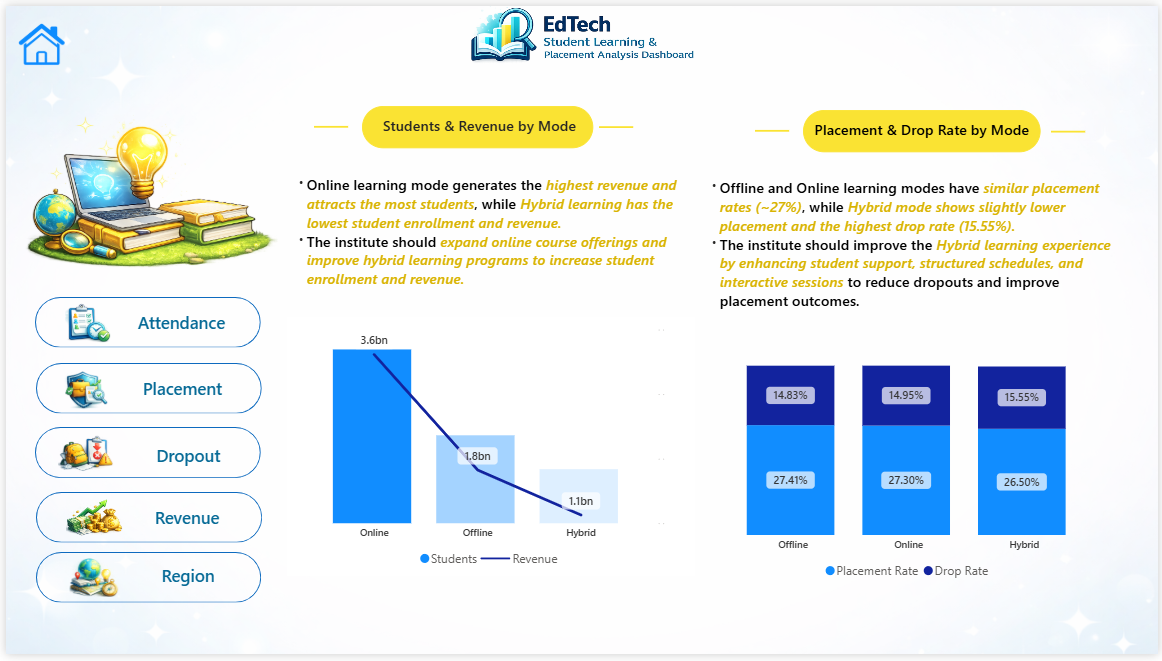

Layout of this report page (visuals, bound fields, positions):
{"tool":"powerbi","page":{"name":"Learning Mode Page","canvas":[1280,720],"ordinal":5},"visuals":[{"type":"image","box":[387.5,0,505.4,68.3],"z":0},{"type":"shape","box":[33,540,251.2,56.4],"z":0,"group":"g4"},{"type":"image","box":[13.8,17.5,52.5,50],"z":1000},{"type":"textbox","box":[129,549.7,144.5,39],"z":1000,"group":"g4"},{"type":"textbox","box":[395,111,257,47],"z":2000},{"type":"image","box":[66,546.2,62.7,43.2],"z":2000,"group":"g4"},{"type":"shape","box":[659,105,38,58],"z":3000},{"type":"shape","box":[342.7,105.2,37.9,57.4],"z":4000},{"type":"textbox","box":[885,116,264,47],"z":5000},{"type":"shape","box":[1161,111,38,57],"z":6000},{"type":"shape","box":[32.8,606.5,250.2,56.4],"z":6000,"group":"g2"},{"type":"shape","box":[832.7,110,37.9,57.4],"z":7000},{"type":"textbox","box":[129.2,614.1,144.5,39],"z":7000,"group":"g2"},{"type":"textbox","box":[311.2,182.5,453.8,151.2],"z":8000},{"type":"image","box":[66.3,612.9,62.7,43.2],"z":8000,"group":"g2"},{"type":"shape","box":[31.9,323.6,250.7,56.2],"z":9000},{"type":"textbox","box":[122.4,333.4,145.4,39],"z":10000},{"type":"image","box":[60.3,330.2,62.3,43.7],"z":11000},{"type":"image","box":[16,51,286,309],"z":12000},{"type":"shape","box":[32.8,396.4,250.7,56.2],"z":12000,"group":"g1"},{"type":"group","id":"g1","title":"Group 1","box":[32.8,396.4,250.9,56.7],"z":13000},{"type":"textbox","box":[122.5,405.9,145.4,39],"z":13000,"group":"g1"},{"type":"image","box":[56.9,405,62.3,43],"z":14000,"group":"g1"},{"type":"group","id":"g2","title":"Group 4","box":[32.8,606.5,250,56.7],"z":14000},{"type":"group","id":"g3","title":"Group 5","box":[31.9,467.3,250.9,56.7],"z":15000},{"type":"textbox","box":[770,185,482.5,170],"z":16000},{"type":"lineStackedColumnComboChart","fields":{"Category":["project students_data.Learning_Mode"],"Y":["project students_data.Total Students"],"Y2":["project students_data.Total Revenue"]},"box":[312.5,345.8,452.5,287.5],"z":17000},{"type":"lineStackedColumnComboChart","fields":{"Category":["project students_data.Learning_Mode"],"Y":["project students_data.Placement Rate","project students_data.Drop Rate"]},"box":[766.5,351,472.5,295],"z":18000},{"type":"group","id":"g4","title":"Group 2","box":[33,540,251,57],"z":19000},{"type":"shape","box":[31.9,467.3,250.8,56.7],"z":20000,"group":"g3"},{"type":"textbox","box":[130.4,481,142.8,35.5],"z":21000,"group":"g3"},{"type":"image","box":[57.2,475.1,62.3,43.4],"z":22000,"group":"g3"}]}

Visuals, with their boxes in screenshot pixels (x1, y1, x2, y2), scaled from the page's 1280x720 canvas onto the 1162x661 screenshot:
image: Rect(352, 0, 811, 63)
shape: Rect(30, 496, 258, 548)
image: Rect(13, 16, 60, 62)
textbox: Rect(117, 505, 248, 540)
textbox: Rect(359, 102, 592, 145)
image: Rect(60, 501, 117, 541)
shape: Rect(598, 96, 633, 150)
shape: Rect(311, 97, 346, 149)
textbox: Rect(803, 106, 1043, 150)
shape: Rect(1054, 102, 1088, 154)
shape: Rect(30, 557, 257, 609)
shape: Rect(756, 101, 790, 154)
textbox: Rect(117, 564, 248, 600)
textbox: Rect(283, 168, 694, 306)
image: Rect(60, 563, 117, 602)
shape: Rect(29, 297, 257, 349)
textbox: Rect(111, 306, 243, 342)
image: Rect(55, 303, 111, 343)
image: Rect(15, 47, 274, 330)
shape: Rect(30, 364, 257, 416)
"Group 1" group: Rect(30, 364, 258, 416)
textbox: Rect(111, 373, 243, 408)
image: Rect(52, 372, 108, 411)
"Group 4" group: Rect(30, 557, 257, 609)
"Group 5" group: Rect(29, 429, 257, 481)
textbox: Rect(699, 170, 1137, 326)
lineStackedColumnComboChart - project students_data.Learning_Mode x project students_data.Total Students: Rect(284, 317, 694, 581)
lineStackedColumnComboChart - project students_data.Learning_Mode x project students_data.Placement Rate: Rect(696, 322, 1125, 593)
"Group 2" group: Rect(30, 496, 258, 548)
shape: Rect(29, 429, 257, 481)
textbox: Rect(118, 442, 248, 474)
image: Rect(52, 436, 108, 476)
